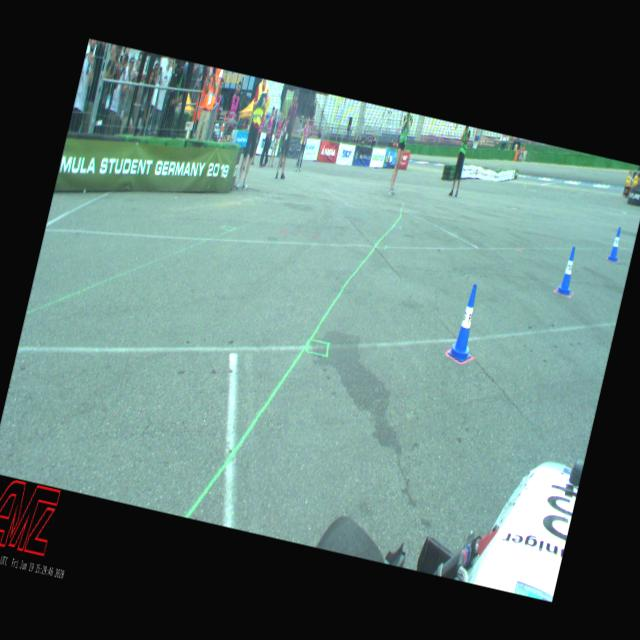blue_cone: (445, 281, 486, 364), (556, 246, 580, 296), (608, 226, 624, 262)
